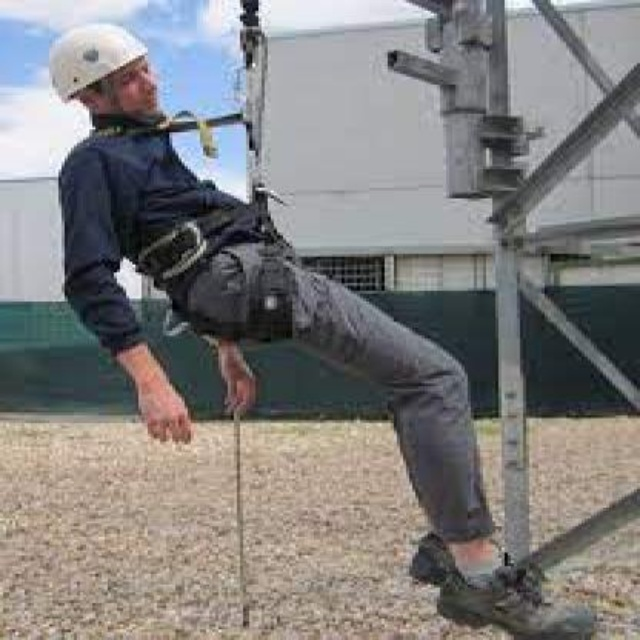Arnes_seguridad: (84, 108, 299, 348)
